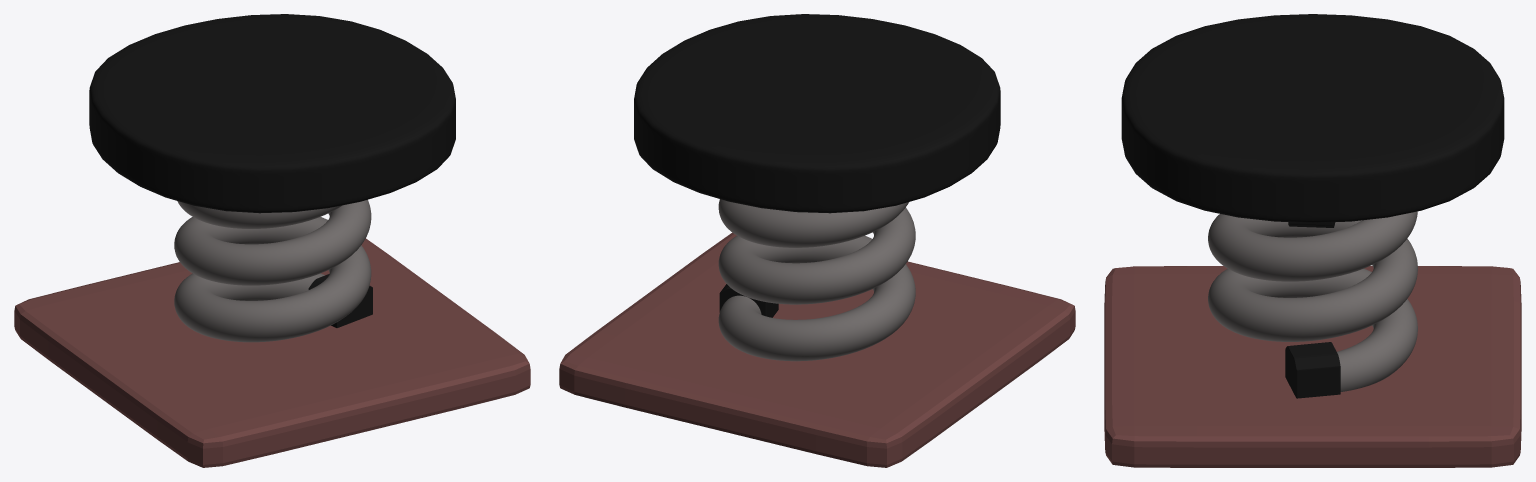
Rendered from JumpSpring.fbx.
3 renders of one model, left to right at view 1: azimuth 30°, elevation 25°; view 2: azimuth 150°, elevation 25°; view 3: azimuth 270°, elevation 25°, orthographic. The views are drawn at different scales.
Parts seen in each view (by area): view 1: Cube, Cube.001, BezierCircle, Cube.002; view 2: Cube, Cube.001, BezierCircle, Cube.002; view 3: Cube, Cube.001, BezierCircle, Cube.002.
Boxes of the visible parts, <box> form: Cube: <box>89,14,455,213</box>; Cube.001: <box>14,238,530,467</box>; BezierCircle: <box>174,199,371,342</box>; Cube.002: <box>308,274,372,327</box>; Cube: <box>634,14,1000,213</box>; Cube.001: <box>559,232,1075,467</box>; BezierCircle: <box>718,199,915,361</box>; Cube.002: <box>719,284,778,317</box>; Cube: <box>1121,14,1504,222</box>; Cube.001: <box>1104,266,1521,467</box>; BezierCircle: <box>1208,211,1417,391</box>; Cube.002: <box>1285,342,1340,398</box>.
Size of the model in its own units: 100 by 76.66 by 100.
